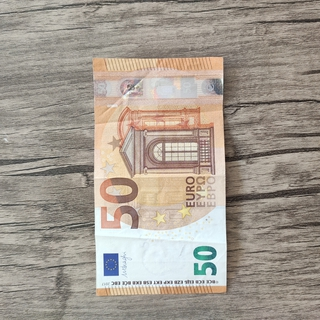50EUROFront: (91, 56, 228, 296)
